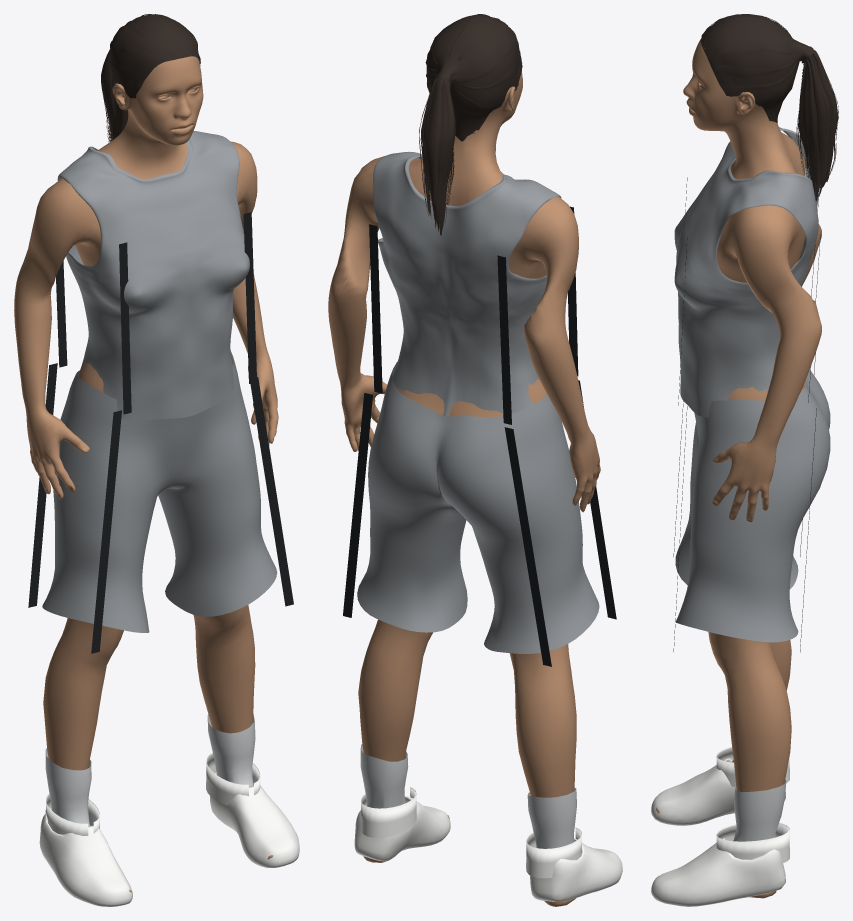
The model's file is mskba-female-player-v1.glb.
3 views of the same model, side by side, from view 1: azimuth 30°, elevation 25°; view 2: azimuth 150°, elevation 25°; view 3: azimuth 270°, elevation 25° (orthographic). The views are drawn at different scales.
Visible parts, largest first — view 1: MSKBA_Uniform_Shorts_Mesh, MSKBA_Uniform_Jersey_Mesh, Body, MSKBA_Shoes_Primary_Mesh, MSKBA_Hair_Female_Ponytail_Mesh, MSKBA_Shoes_Accent_Mesh; view 2: MSKBA_Uniform_Shorts_Mesh, Body, MSKBA_Uniform_Jersey_Mesh, MSKBA_Hair_Female_Ponytail_Mesh, MSKBA_Shoes_Primary_Mesh, MSKBA_Shoes_Accent_Mesh; view 3: Body, MSKBA_Uniform_Shorts_Mesh, MSKBA_Uniform_Jersey_Mesh, MSKBA_Hair_Female_Ponytail_Mesh, MSKBA_Shoes_Primary_Mesh, MSKBA_Shoes_Accent_Mesh.
Part boxes in pixels (box(x1,y1,x2,y2)): MSKBA_Uniform_Shorts_Mesh: box(28, 351, 293, 653); MSKBA_Uniform_Jersey_Mesh: box(56, 131, 256, 420); Body: box(14, 56, 278, 892); MSKBA_Shoes_Primary_Mesh: box(39, 714, 299, 906); MSKBA_Hair_Female_Ponytail_Mesh: box(101, 14, 200, 142); MSKBA_Shoes_Accent_Mesh: box(45, 752, 260, 835); MSKBA_Uniform_Shorts_Mesh: box(343, 362, 616, 666); Body: box(328, 57, 600, 906); MSKBA_Uniform_Jersey_Mesh: box(369, 151, 578, 424); MSKBA_Hair_Female_Ponytail_Mesh: box(419, 14, 522, 235); MSKBA_Shoes_Primary_Mesh: box(354, 744, 622, 901); MSKBA_Shoes_Accent_Mesh: box(360, 787, 581, 878); Body: box(656, 38, 821, 898); MSKBA_Uniform_Shorts_Mesh: box(673, 353, 830, 652); MSKBA_Uniform_Jersey_Mesh: box(674, 127, 820, 417); MSKBA_Hair_Female_Ponytail_Mesh: box(700, 14, 838, 200); MSKBA_Shoes_Primary_Mesh: box(651, 758, 786, 906); MSKBA_Shoes_Accent_Mesh: box(716, 746, 789, 863).
Size of the model in its own units: 0.4824 by 1.61 by 0.3255.
